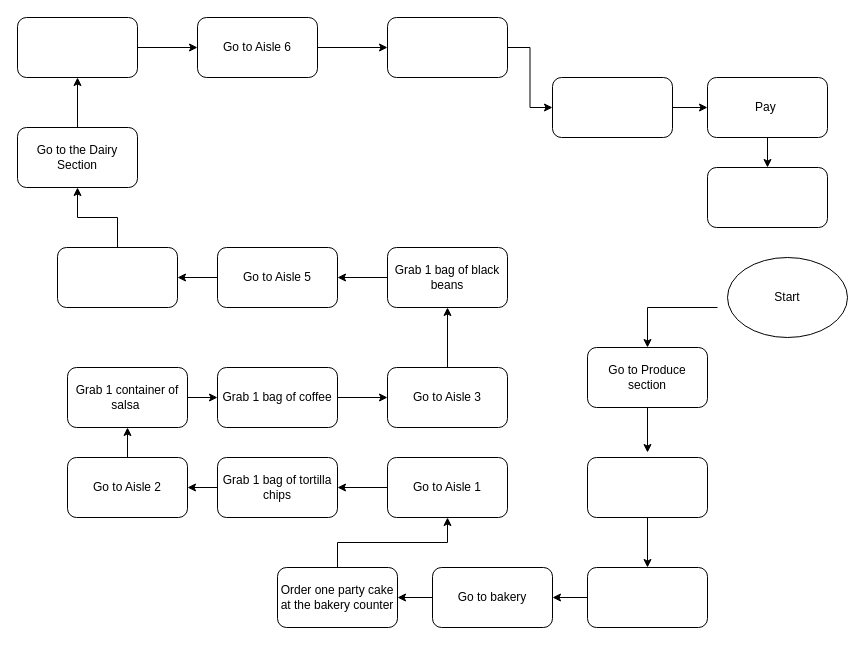
The diagram is 865 pixels wide and 645 high, and some of its shapes have lost their labels. The shapes that lost their labels are listed below. From the top down, each one's centre as x and y in pixels, then its label:
At [77,47]: "Grab yogurt".
At [447,47]: "Grab 2 frozen veggie pizzas".
At [612,107]: "Go to checkout area".
At [767,197]: "End".
At [117,277]: "Grab paper plates".
At [647,487]: "Grab 1 bunch of bananas".
At [647,597]: "Grab 1 bag of salad".
